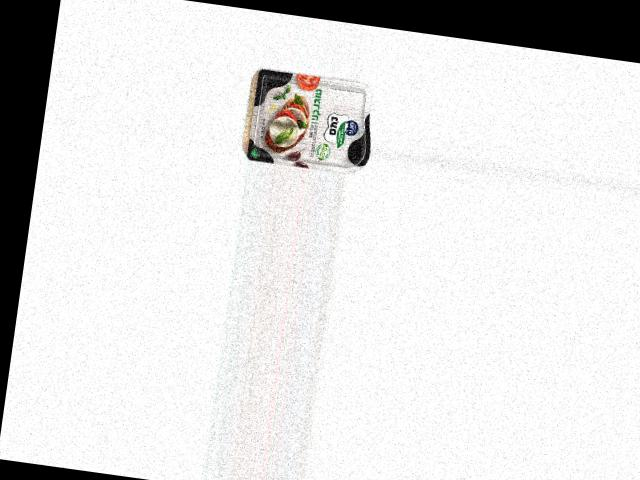cheese: (245, 66, 377, 176)
